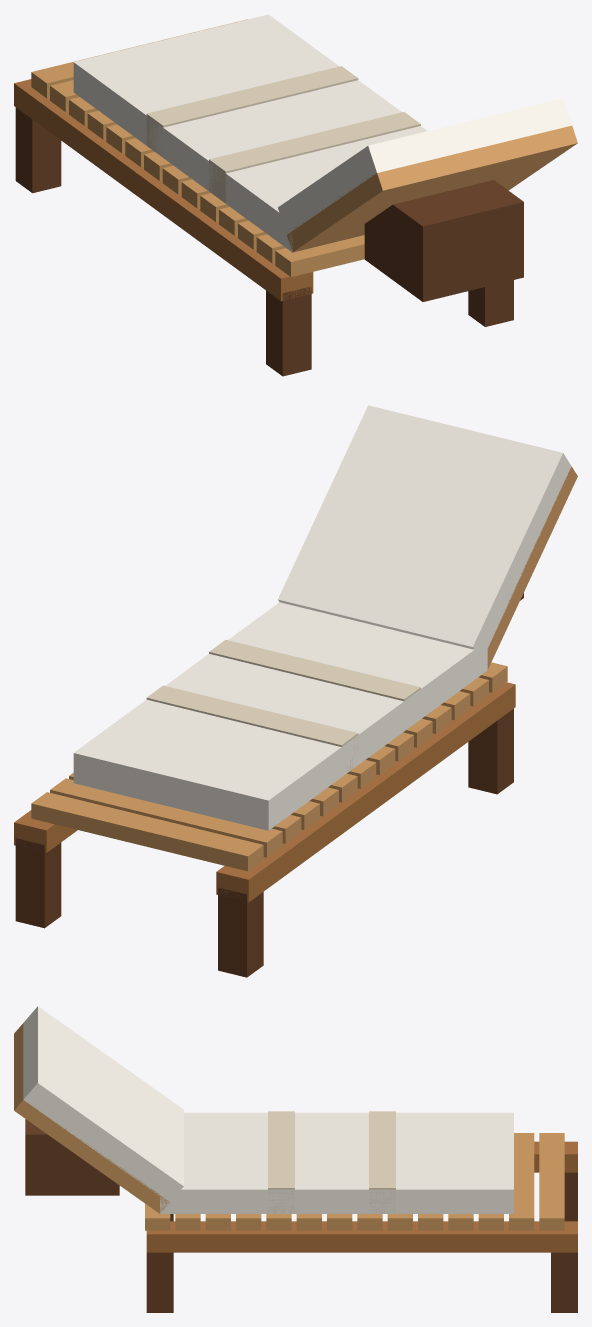
Rendered from sunbed.obj.
3 renders of one model, top to bottom at view 1: azimuth 30°, elevation 25°; view 2: azimuth 150°, elevation 25°; view 3: azimuth 270°, elevation 25°, orthographic. The views are drawn at different scales.
Visible parts, largest first — view 1: sunbed_cloth, sunbed_wood_dark, sunbed_wood_light, sunbed_wood_mid, sunbed_umb_b; view 2: sunbed_cloth, sunbed_wood_light, sunbed_wood_mid, sunbed_wood_dark, sunbed_umb_b; view 3: sunbed_cloth, sunbed_wood_light, sunbed_wood_mid, sunbed_wood_dark, sunbed_umb_b.
Boxes of the visible parts, x1,y1,x2,y2 form: sunbed_cloth: (73,14,571,252); sunbed_wood_dark: (15,107,523,376); sunbed_wood_light: (31,19,577,276); sunbed_wood_mid: (14,79,313,301); sunbed_umb_b: (146,66,420,203); sunbed_cloth: (73,405,571,830); sunbed_wood_light: (31,466,577,871); sunbed_wood_mid: (14,682,515,902); sunbed_wood_dark: (15,593,523,977); sunbed_umb_b: (146,640,420,772); sunbed_cloth: (23,1006,513,1213); sunbed_wood_light: (14,1023,564,1230); sunbed_wood_mid: (146,1141,577,1252); sunbed_wood_dark: (25,1119,577,1312); sunbed_umb_b: (268,1111,395,1213).
Bounding box in the file's own units: 0.65 × 0.7292 × 1.67.
